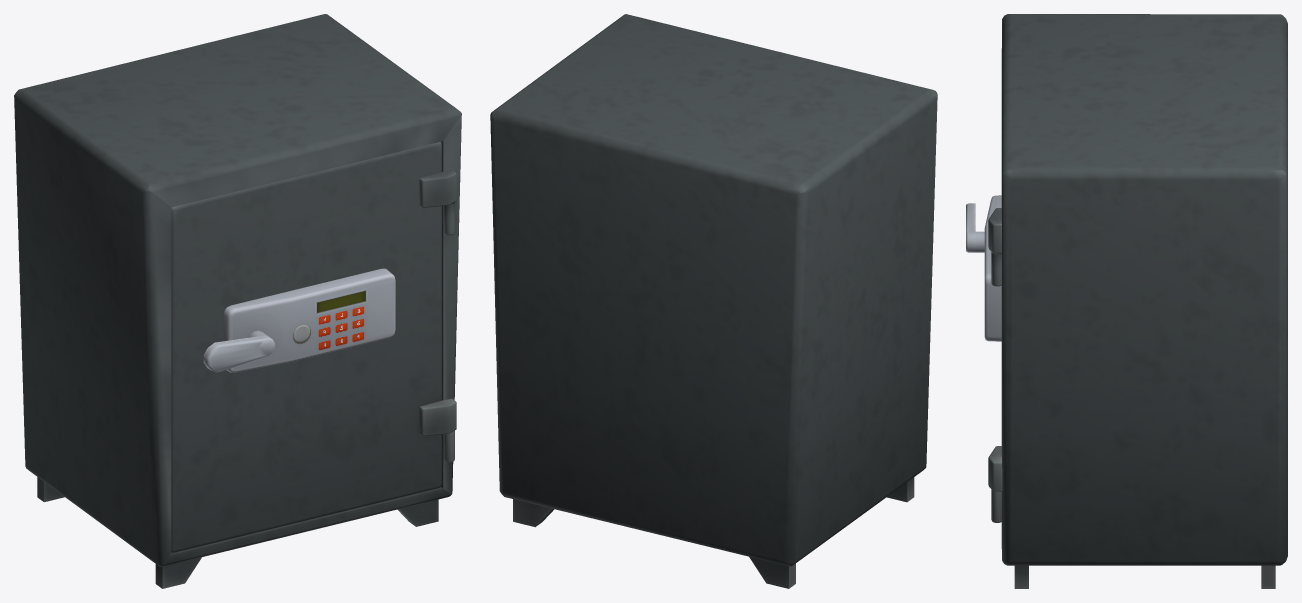
The model's file is OfficeSafe01_2.FBX.
3 renders of one model, left to right at view 1: azimuth 30°, elevation 25°; view 2: azimuth 150°, elevation 25°; view 3: azimuth 270°, elevation 25°, orthographic. The views are drawn at different scales.
Visible parts, largest first — view 1: SafeBase, SafeDoor; view 2: SafeBase; view 3: SafeBase, SafeDoor.
Boxes of the visible parts, <box> form: SafeBase: <box>14,14,461,588</box>; SafeDoor: <box>171,141,456,552</box>; SafeBase: <box>490,14,937,588</box>; SafeBase: <box>991,14,1287,588</box>; SafeDoor: <box>966,195,1002,491</box>.
Size of what is drawn, in the model's own units: 0.6628 by 0.818 by 0.5565.
